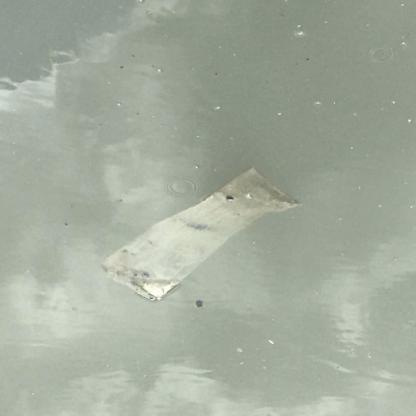Trash: (95, 161, 305, 307)
